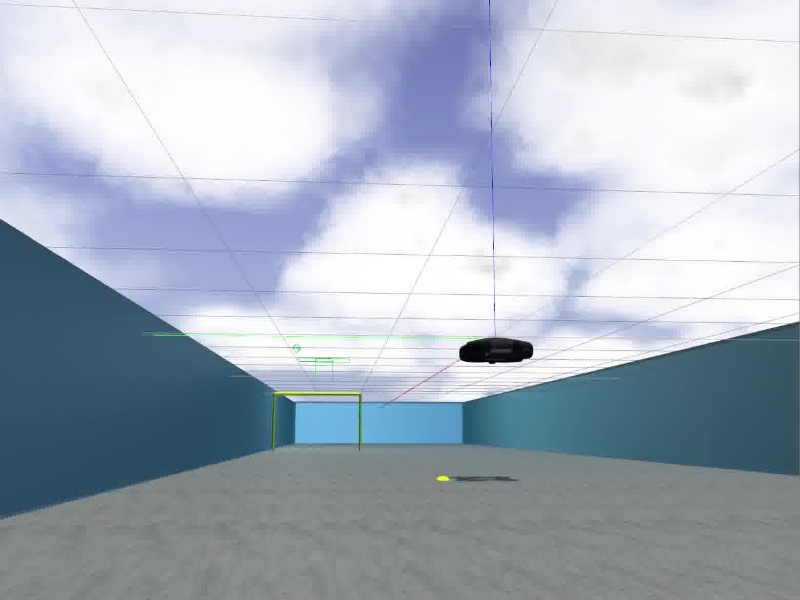gate: (272, 391, 363, 453)
